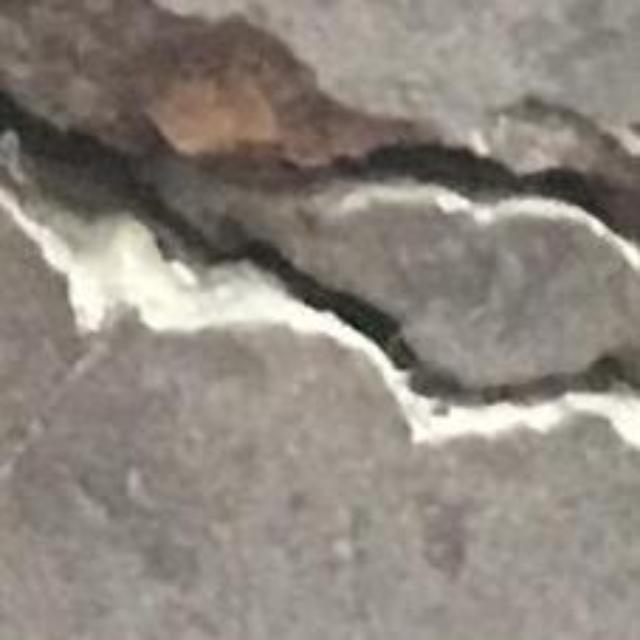crack: (0, 0, 639, 448)
